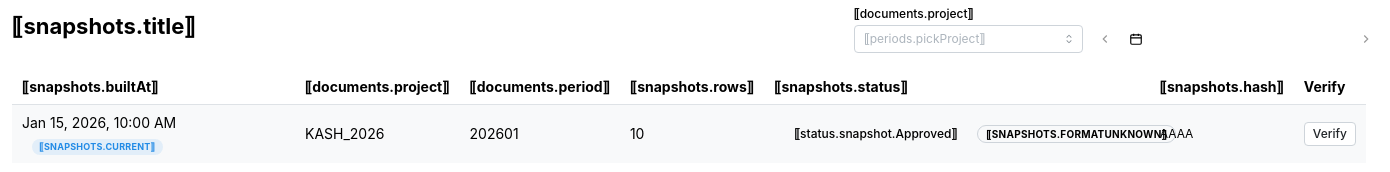
Test case: SnapshotsPage: перевірка незмінності зрізу (BE-17) › збіг — бейдж «unchanged», сум розбіжності не показано
What coordinates should you click on to do the following:
click the button "Verify"
I would click on:
 (1330, 134)
Its box is [1304,122,1356,146].
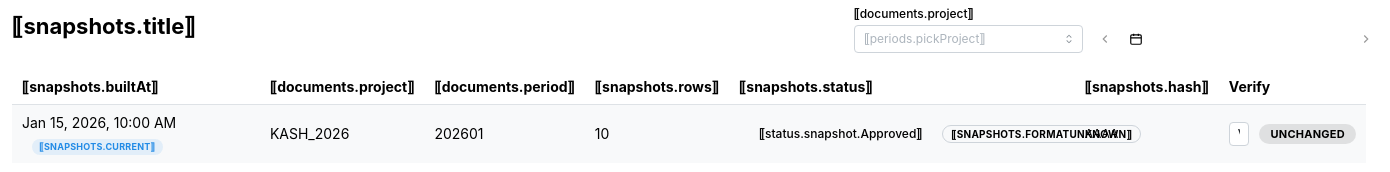
Expected: the text "unchanged" is shown, [1270,125,1345,143]
